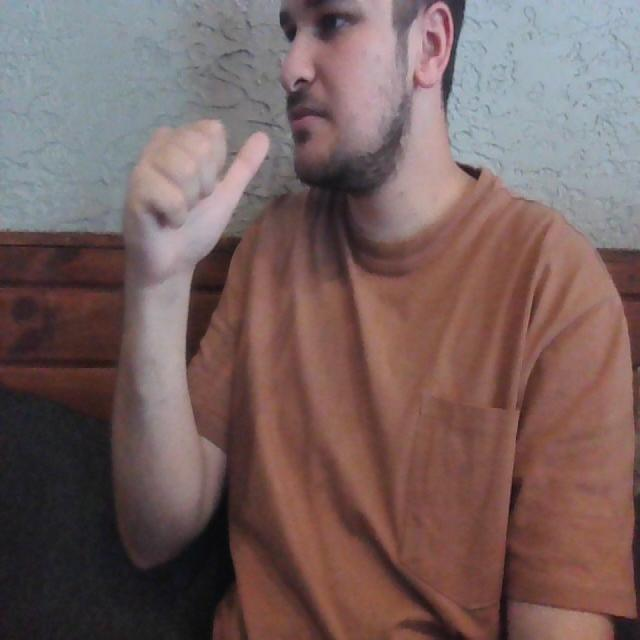icmek: (126, 96, 330, 242)
